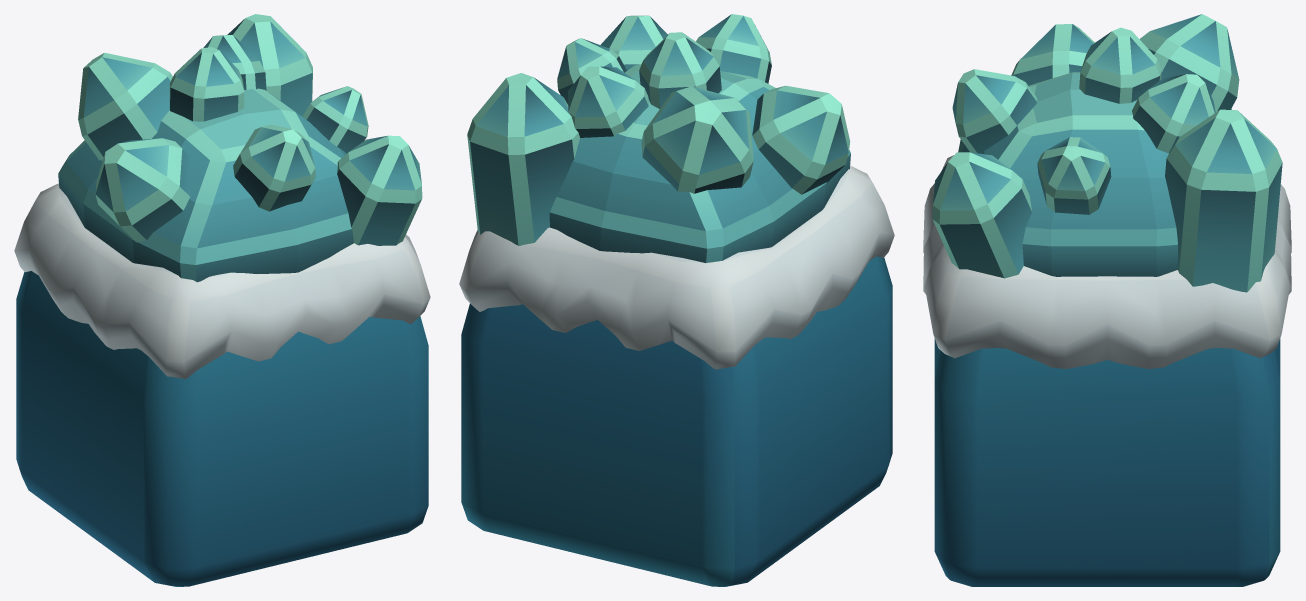
Rendered from Winter3.fbx.
3 views of the same model, side by side, from view 1: azimuth 30°, elevation 25°; view 2: azimuth 150°, elevation 25°; view 3: azimuth 270°, elevation 25° (orthographic). The views are drawn at different scales.
Visible parts, largest first — view 1: Winter3, Winter_Cube_03 .002, Winter_Cube3.003; view 2: Winter3, Winter_Cube_03 .002, Winter_Cube3.003; view 3: Winter3, Winter_Cube_03 .002, Winter_Cube3.003.
Part boxes in pixels (box(x1,y1,x2,y2)): Winter3: box(16, 271, 428, 586); Winter_Cube_03 .002: box(58, 14, 422, 282); Winter_Cube3.003: box(14, 183, 430, 379); Winter3: box(461, 256, 892, 586); Winter_Cube_03 .002: box(467, 14, 850, 262); Winter_Cube3.003: box(459, 165, 894, 369); Winter3: box(934, 338, 1280, 586); Winter_Cube_03 .002: box(932, 14, 1282, 292); Winter_Cube3.003: box(923, 155, 1291, 368).
Size of the model in its own units: 107 by 158 by 107.
